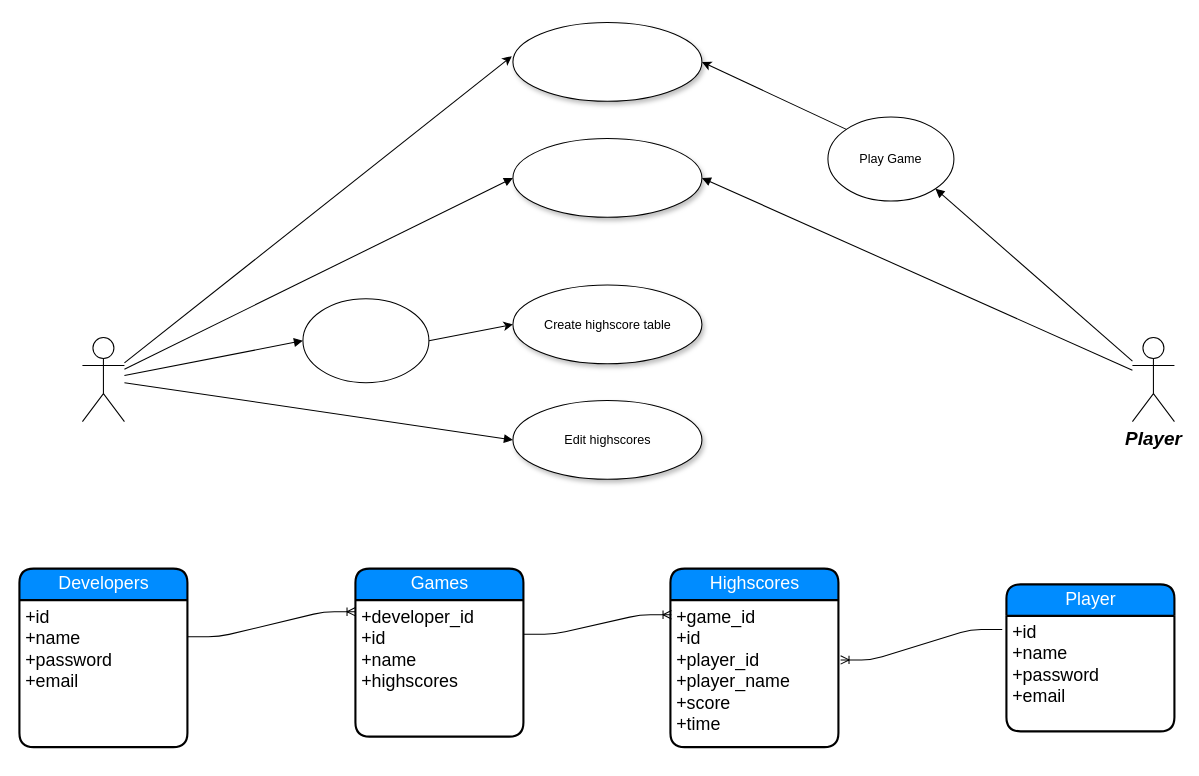
This 1199x776 diagram has some shape labels left out. Here are the shapes that lost their labels. From the top down, the centre of each, then its label:
At pixel 608 63: "Update highscores".
At pixel 608 179: "View highscores".
At pixel 365 340: "Create game".
At pixel 102 379: "Game developer".
